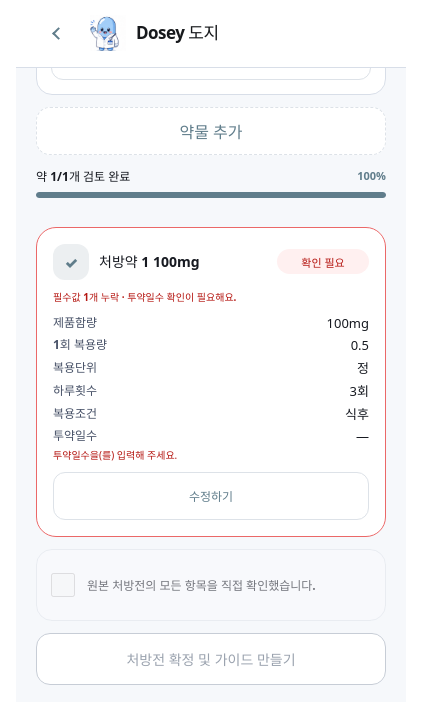
Test case: PrescriptionReviewPage confirmation gate › 필수 항목이 OCR 결과에 없으면 재업로드를 안내하고 확정을 차단한다
(page scrolled)
Click the button "수정하기".
click(211, 496)  # box [53,472,369,520]
(page scrolled)
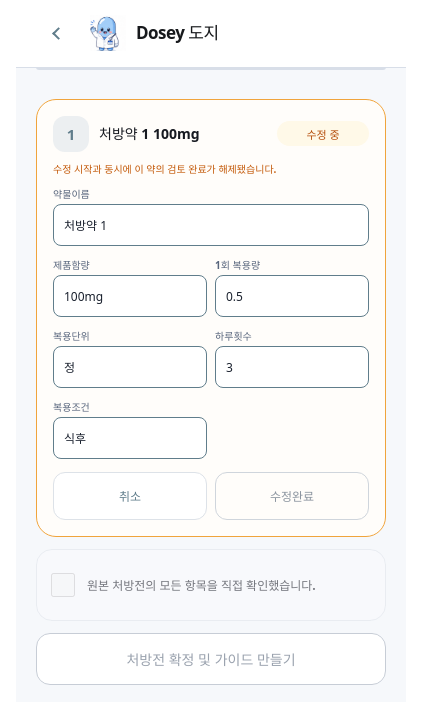
Expected: the button "처방전 확정 및 가이드 만들기" is disabled, [36,633,386,685]
Expected: the message labelled "투약일수" is gone
